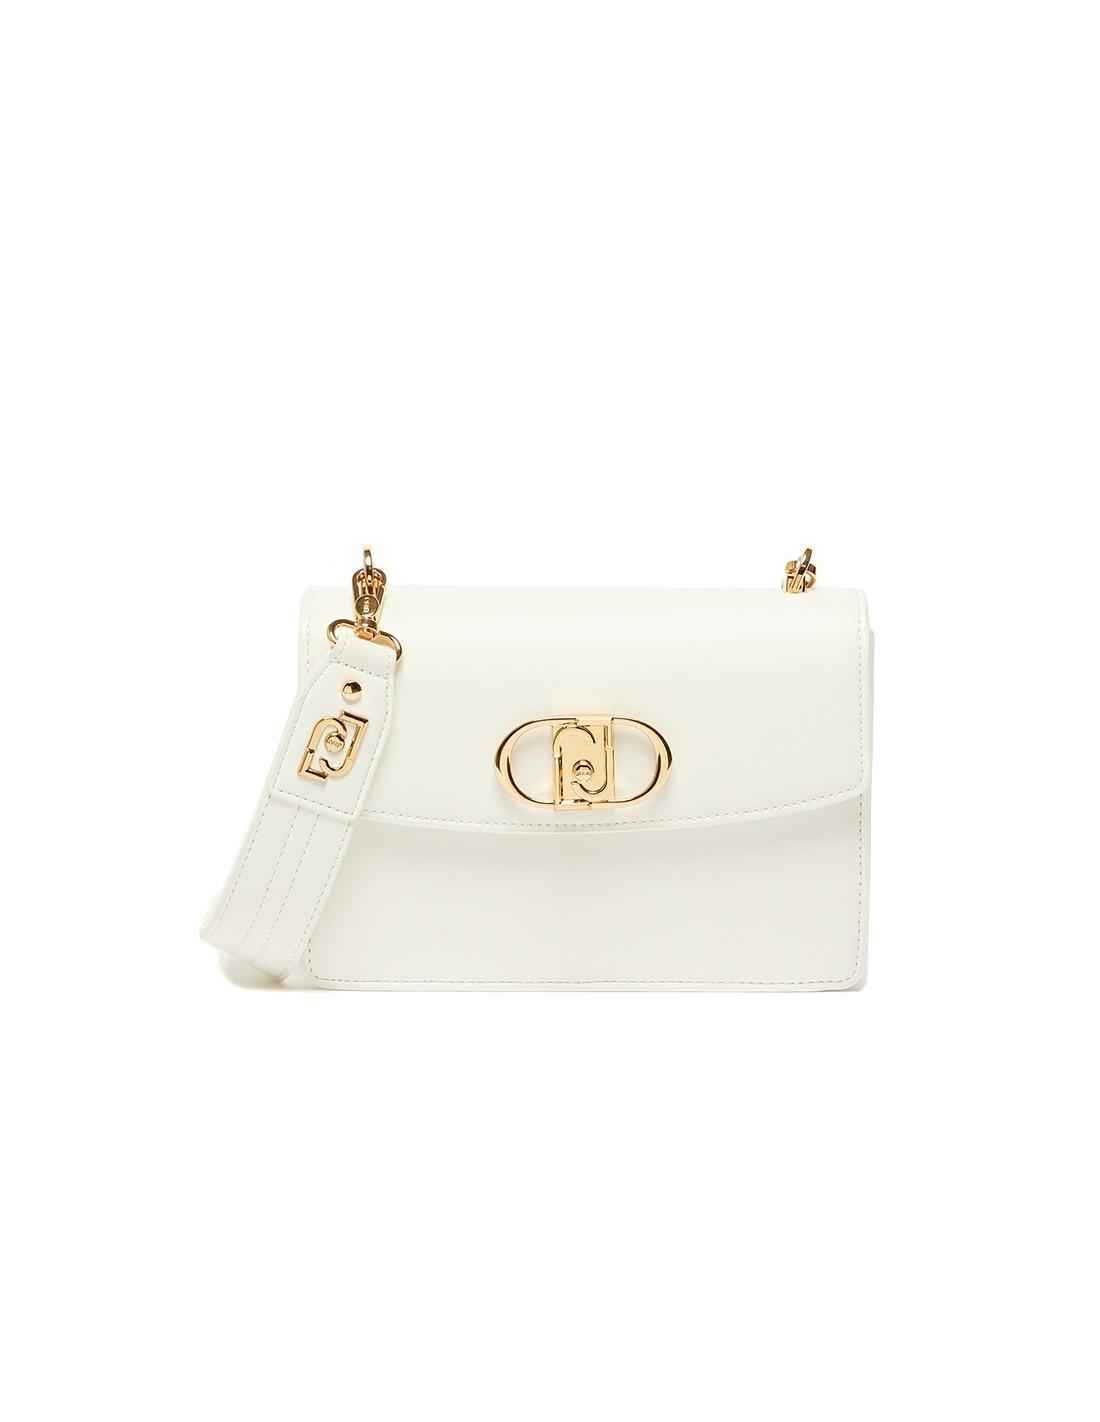LIU-JO: (551, 714, 616, 811), (295, 709, 371, 785)
